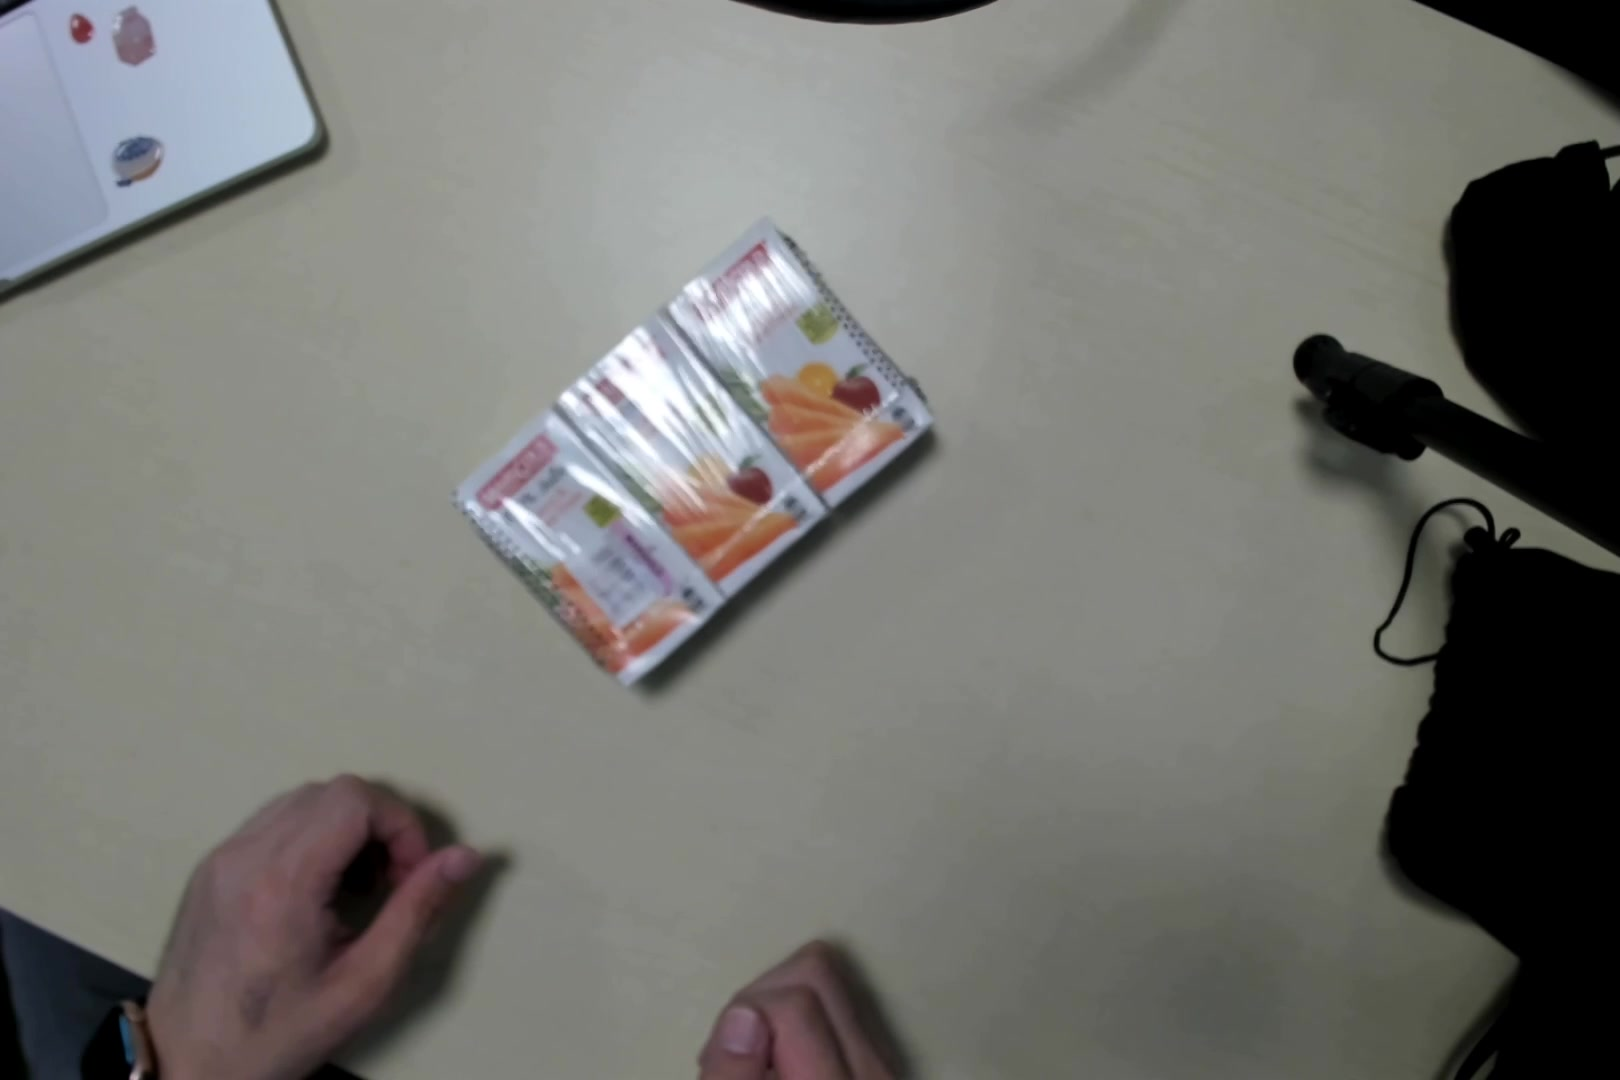FruitJuiceDrink_500-599g_Halal_NonHealthy: (480, 212, 931, 680)
